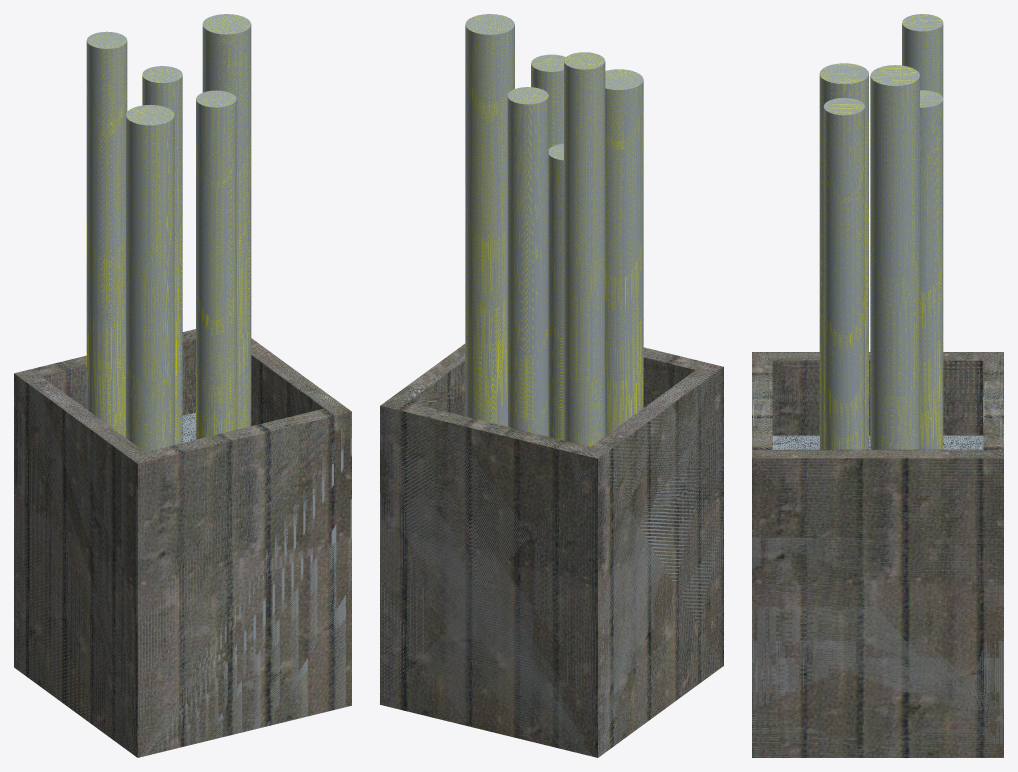
File: caja_juguetes_1.fbx
3 renders of one model, left to right at view 1: azimuth 30°, elevation 25°; view 2: azimuth 150°, elevation 25°; view 3: azimuth 270°, elevation 25°, orthographic.
Parts seen in each view (by area): view 1: Model; view 2: Model; view 3: Model.
Part boxes in pixels (<box>): Model: <box>14,14,351,757</box>; Model: <box>380,14,723,757</box>; Model: <box>752,14,1003,757</box>.
Size of the model in its own units: 0.61 by 1.75 by 0.61.
